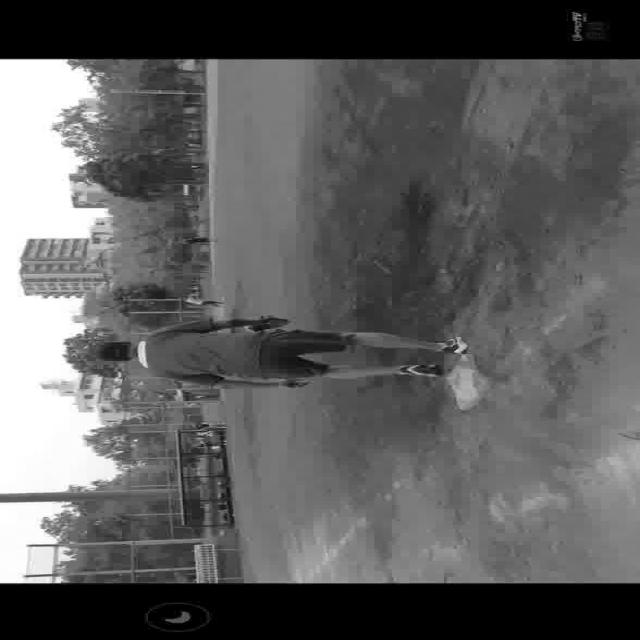base: (446, 346, 486, 408)
baseball: (152, 301, 156, 303)
baseball_glove: (240, 313, 296, 332)
shoe: (400, 362, 446, 379), (434, 332, 470, 353)
